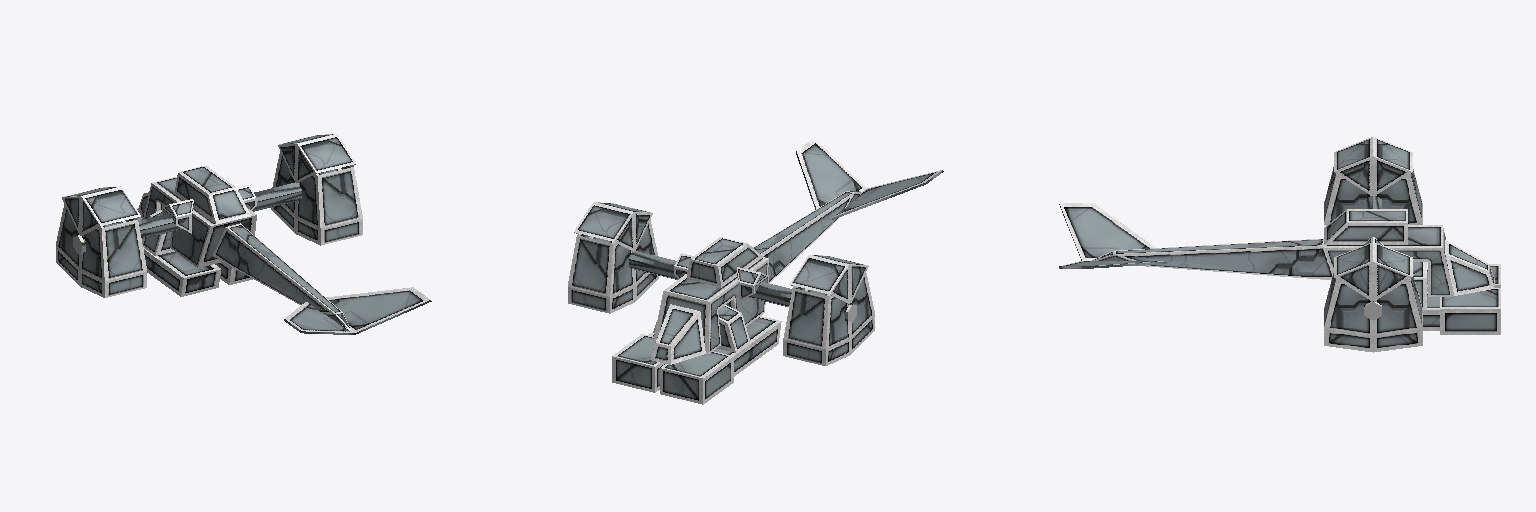
3 views of the same model, side by side, from view 1: azimuth 30°, elevation 25°; view 2: azimuth 150°, elevation 25°; view 3: azimuth 270°, elevation 25° (orthographic).
Parts seen in each view (by area): view 1: base, thruster_left, thruster_right_thruster_left.001, rack_left, s2_right_s1_left.002, s2_left_s1_left.001, arm_right_arm_left.001, arm_left, boot_left, shoulder_left, s1_left, s1_right_s1_left.003; view 2: base, thruster_left, thruster_right_thruster_left.001, muz_left, muz_right_muz_left.001, s1_left, s1_right_s1_left.003, rack_left, shoulder_left, arm_right_arm_left.001, arm_left, boot_left (+2 smaller); view 3: base, thruster_right_thruster_left.001, thruster_left, muz_right_muz_left.001, s1_left, s1_right_s1_left.003, s2_left_s1_left.001, s2_right_s1_left.002, rack_right_rack_left.001.
Boxes of the visible parts, box(x1,y1,x2,y2) form: base: box(139, 166, 431, 334); thruster_left: box(56, 204, 146, 297); thruster_right_thruster_left.001: box(271, 152, 362, 245); rack_left: box(142, 239, 220, 296); s2_right_s1_left.002: box(296, 134, 356, 182); s2_left_s1_left.001: box(80, 186, 140, 235); arm_right_arm_left.001: box(252, 182, 301, 211); arm_left: box(73, 213, 181, 253); boot_left: box(162, 199, 193, 233); shoulder_left: box(142, 210, 174, 255); s1_left: box(62, 186, 120, 234); s1_right_s1_left.003: box(278, 134, 333, 181); base: box(651, 139, 943, 364); thruster_left: box(783, 273, 874, 365); thruster_right_thruster_left.001: box(568, 219, 658, 313); muz_left: box(660, 351, 733, 404); muz_right_muz_left.001: box(612, 334, 664, 392); s1_left: box(789, 255, 850, 304); s1_right_s1_left.003: box(574, 202, 634, 251); rack_left: box(714, 316, 781, 376); shoulder_left: box(717, 305, 750, 352); arm_right_arm_left.001: box(629, 251, 678, 279); arm_left: box(749, 282, 856, 322); boot_left: box(737, 267, 768, 301); base: box(1059, 203, 1494, 296); thruster_right_thruster_left.001: box(1324, 273, 1422, 352); thruster_left: box(1324, 167, 1422, 224); muz_right_muz_left.001: box(1440, 288, 1500, 334); s1_left: box(1373, 137, 1412, 195); s1_right_s1_left.003: box(1373, 242, 1412, 300); s2_left_s1_left.001: box(1334, 137, 1372, 195); s2_right_s1_left.002: box(1334, 242, 1372, 300); rack_right_rack_left.001: box(1423, 292, 1439, 330).
Size of the model in its own units: 2.62 by 1.08 by 3.81.
2 materials, 1 textured.